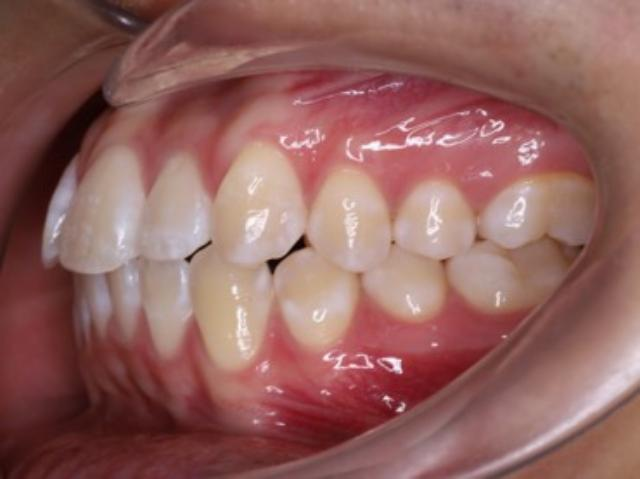canine class II 1/4: (188, 138, 360, 386)
molar class I: (444, 174, 606, 320)
